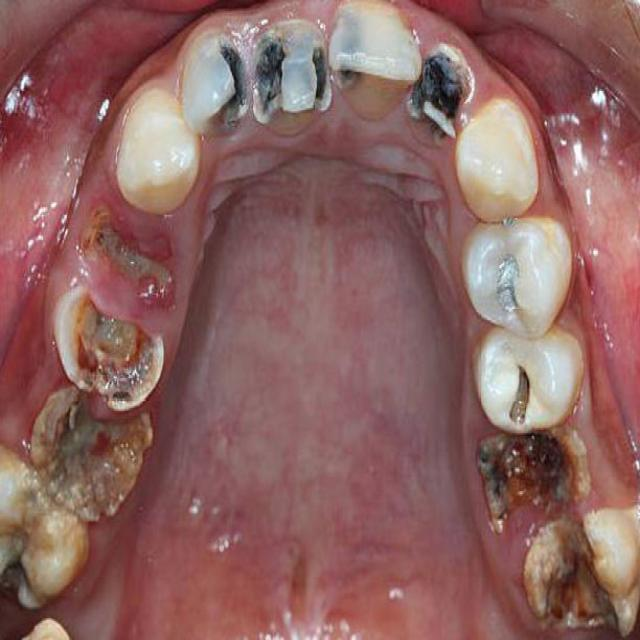caries: (38, 376, 142, 513), (54, 290, 161, 402), (524, 517, 620, 640), (478, 427, 596, 516), (87, 213, 178, 304), (403, 46, 464, 148), (247, 31, 300, 127), (0, 542, 48, 620), (211, 42, 249, 129), (298, 34, 333, 121), (507, 344, 539, 425), (493, 248, 527, 318), (495, 193, 525, 252), (334, 42, 362, 104)
